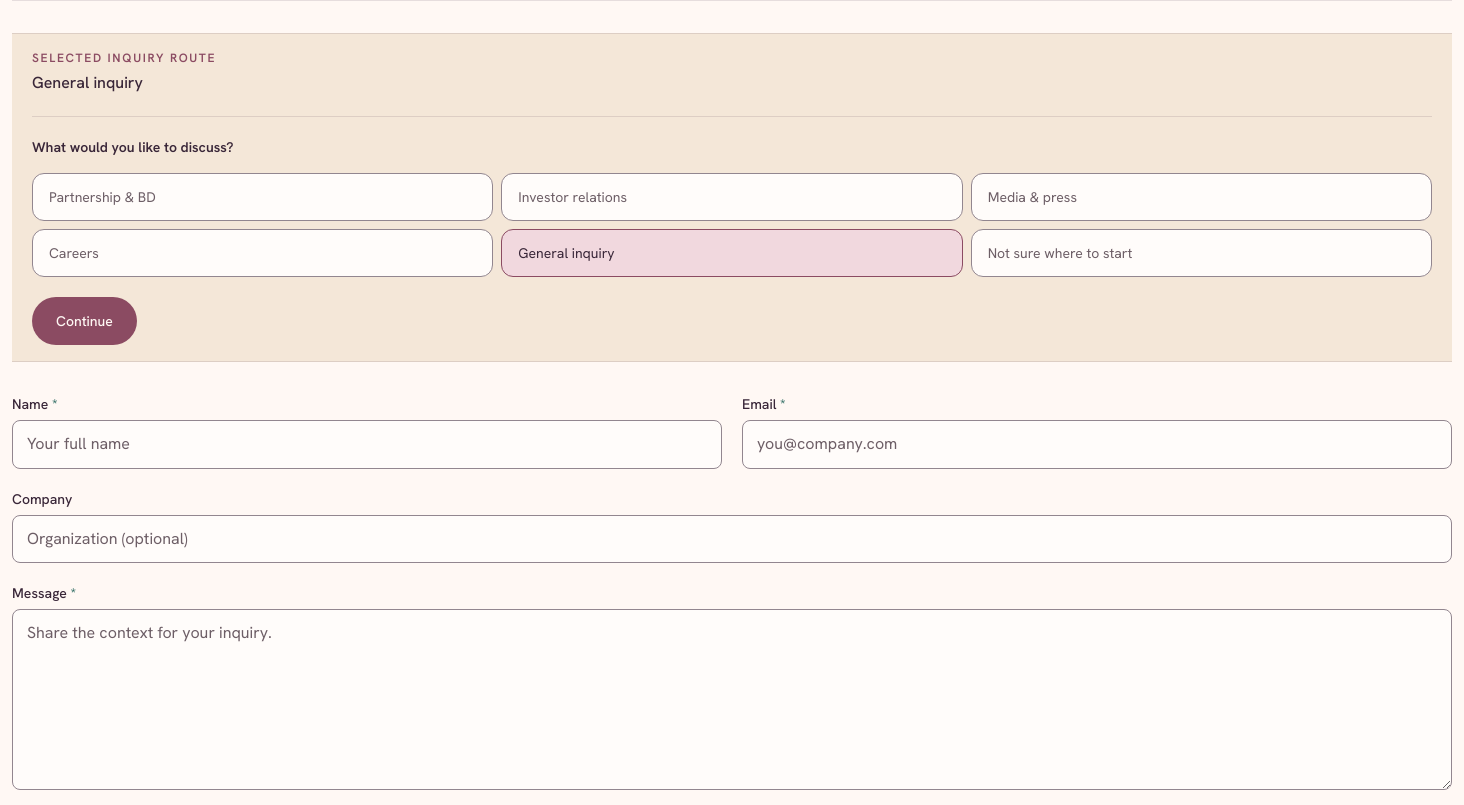
Test: ContactForm subject chooser › collapses only on confirmation and advances focus to the first field
The image size is (1464, 805).
Click the radio button labelled "Media & press" at (1201, 197), box [971, 173, 1432, 221]
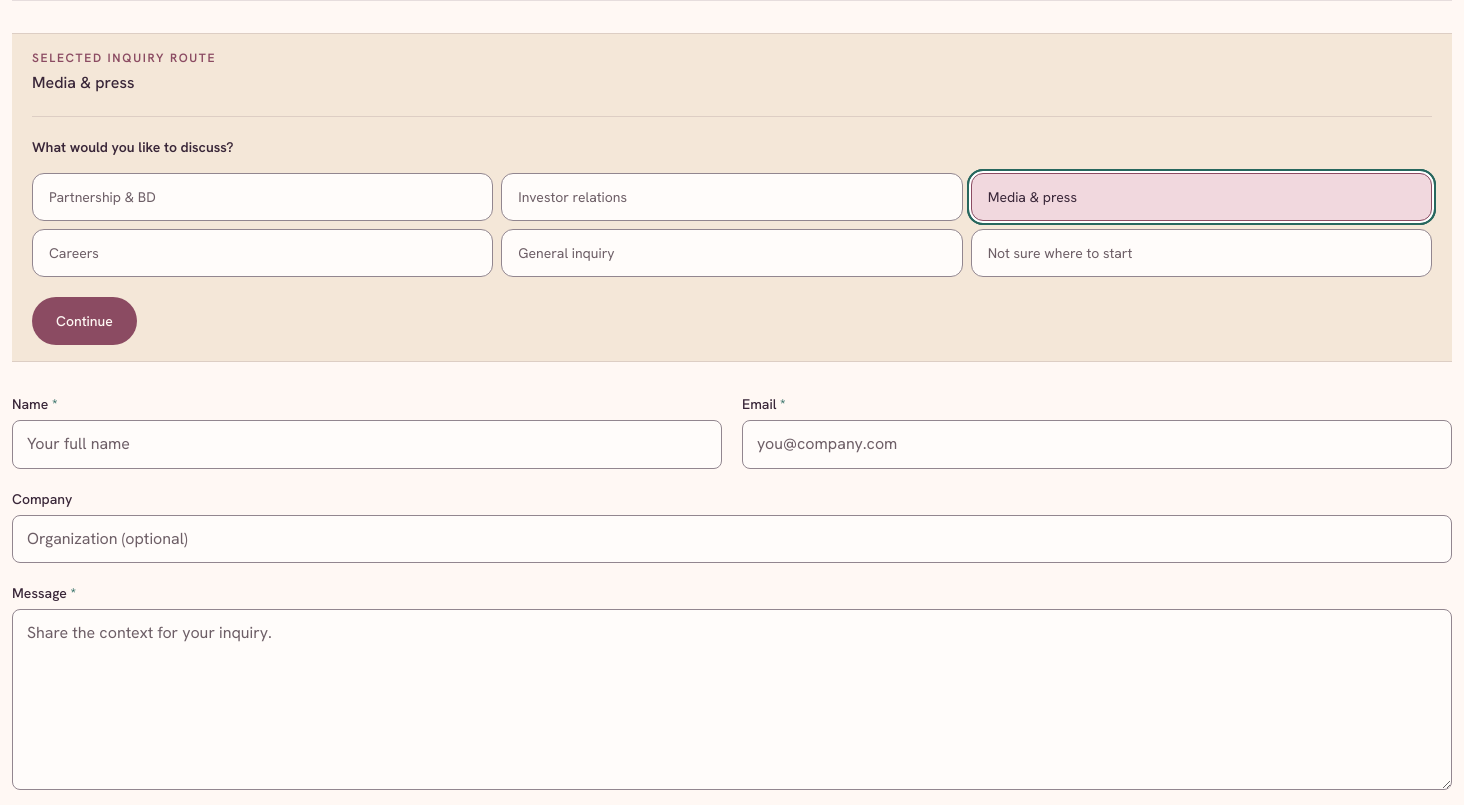
Click the button "Continue" at (84, 321), box [32, 297, 137, 345]
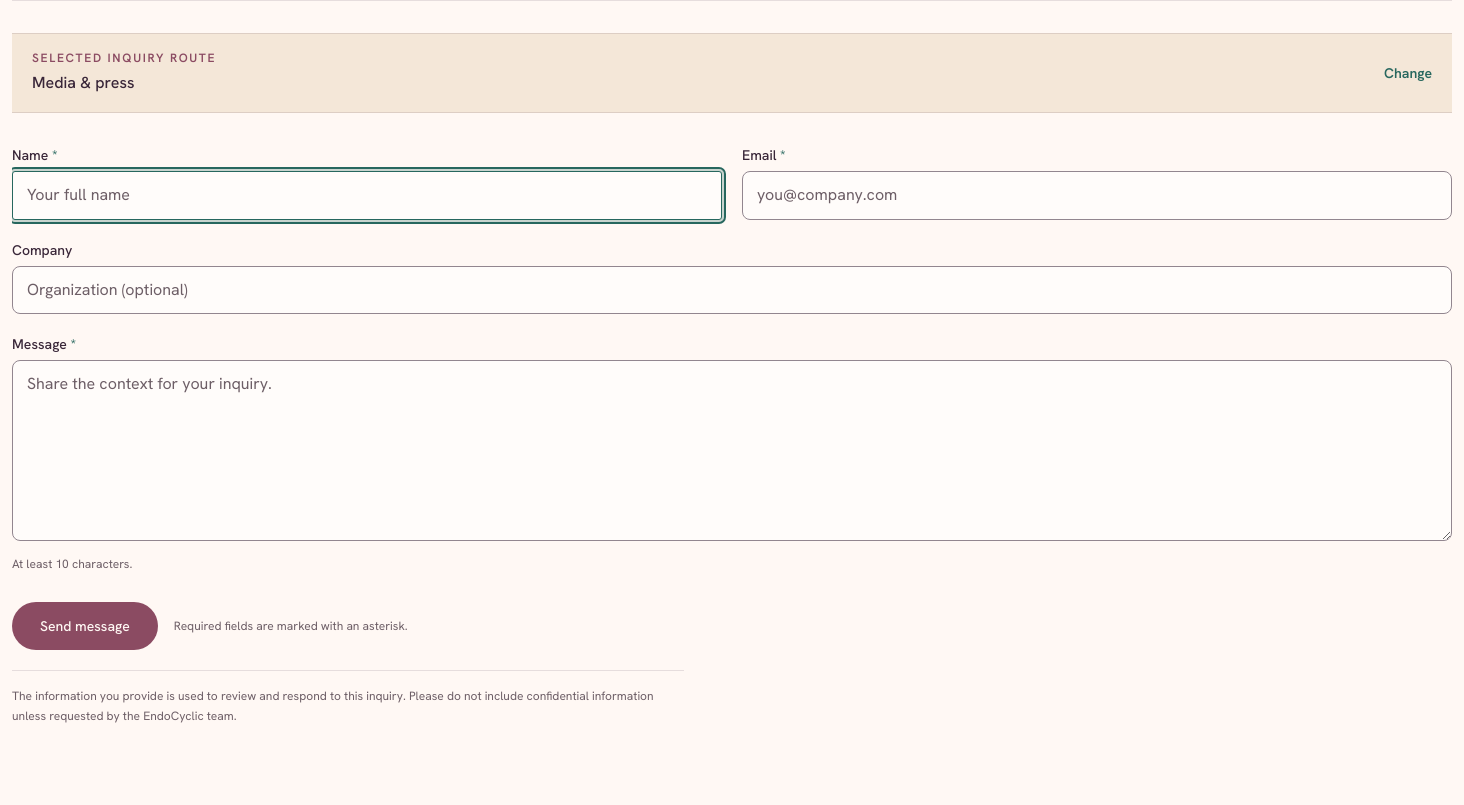
expect the text "Media & press" is shown: met, box [32, 72, 134, 93]
expect the button "Change" is collapsed: met, box [1384, 51, 1432, 95]
expect the element with id "contact-subject-options" is gone: met
